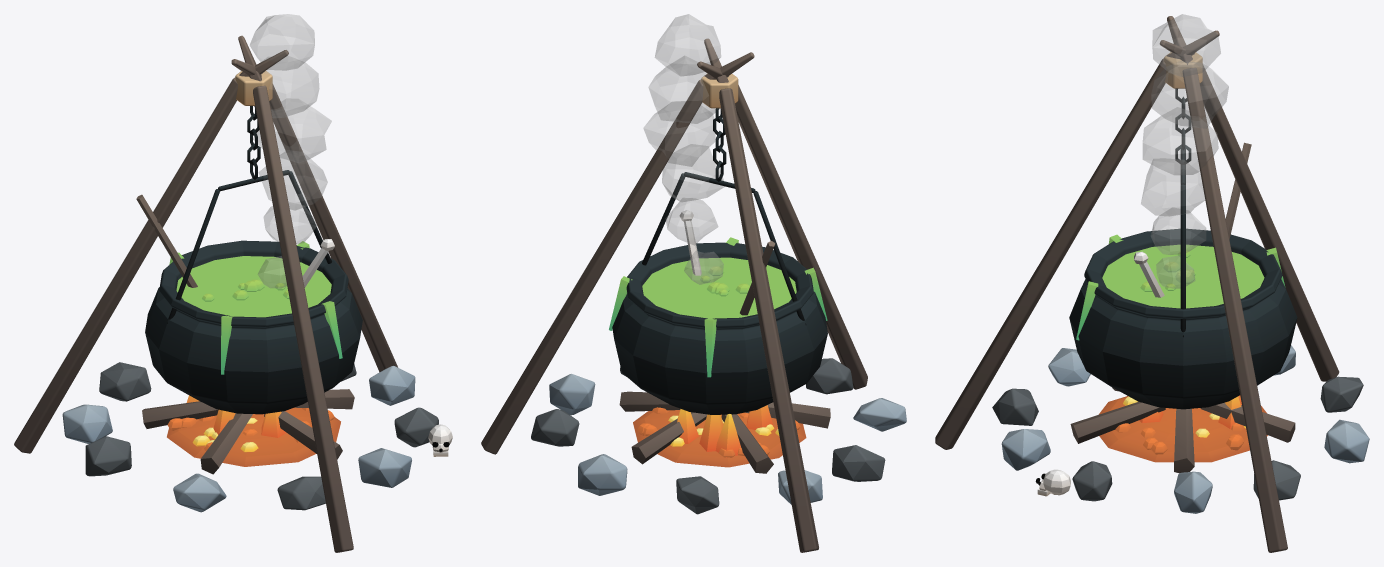
Rendered from hag_cauldron.glb.
The picture shows the model from 3 angles, left to right: view 1: azimuth 30°, elevation 25°; view 2: azimuth 150°, elevation 25°; view 3: azimuth 270°, elevation 25°; orthographic projection. The views are drawn at different scales.
Visible parts, largest first — view 1: hag_cauldron; view 2: hag_cauldron; view 3: hag_cauldron.
Part boxes in pixels (<box>): hag_cauldron: <box>14,14,452,552</box>; hag_cauldron: <box>481,14,906,552</box>; hag_cauldron: <box>935,14,1369,552</box>.
Size of the model in its own units: 3.04 by 3.55 by 3.04.
Materials: 6 (6 with a texture image).
